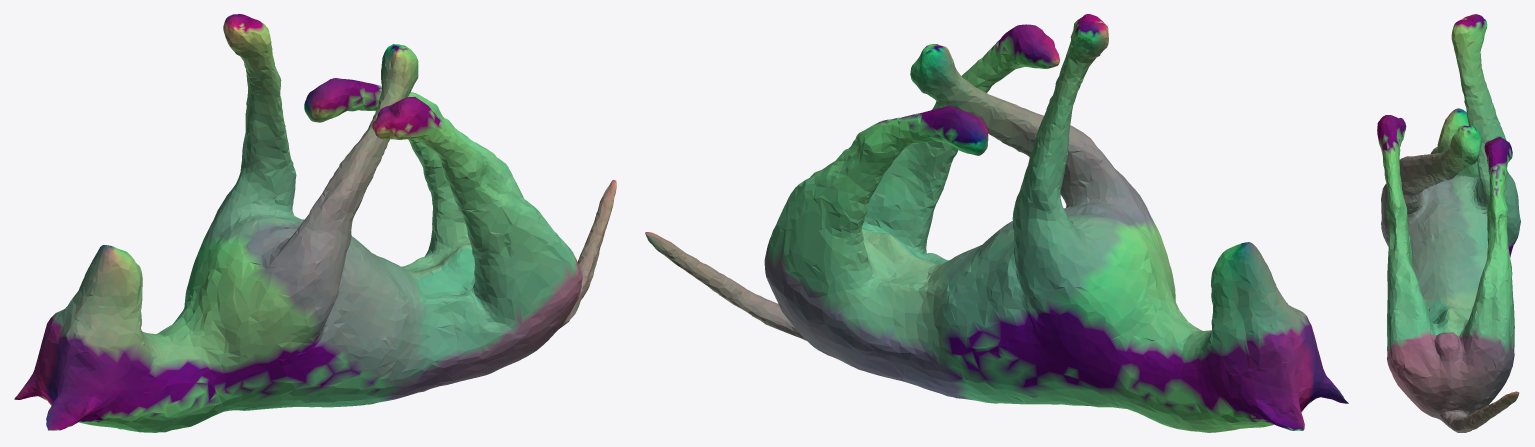
Rendered from dog2-20.off.obj.
3 views of the same model, side by side, from view 1: azimuth 30°, elevation 25°; view 2: azimuth 150°, elevation 25°; view 3: azimuth 270°, elevation 25° (orthographic). The views are drawn at different scales.
Size of the model in its own units: 1.64 by 1 by 0.4176.
